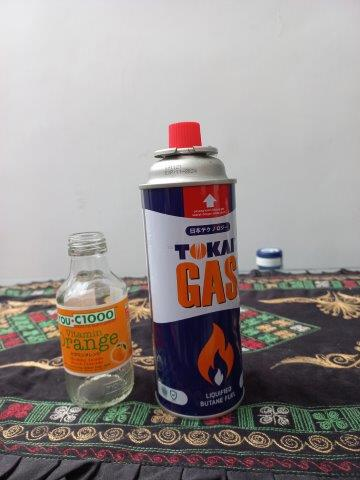botolkaca: (54, 232, 134, 408)
kaleng: (141, 123, 245, 417)
